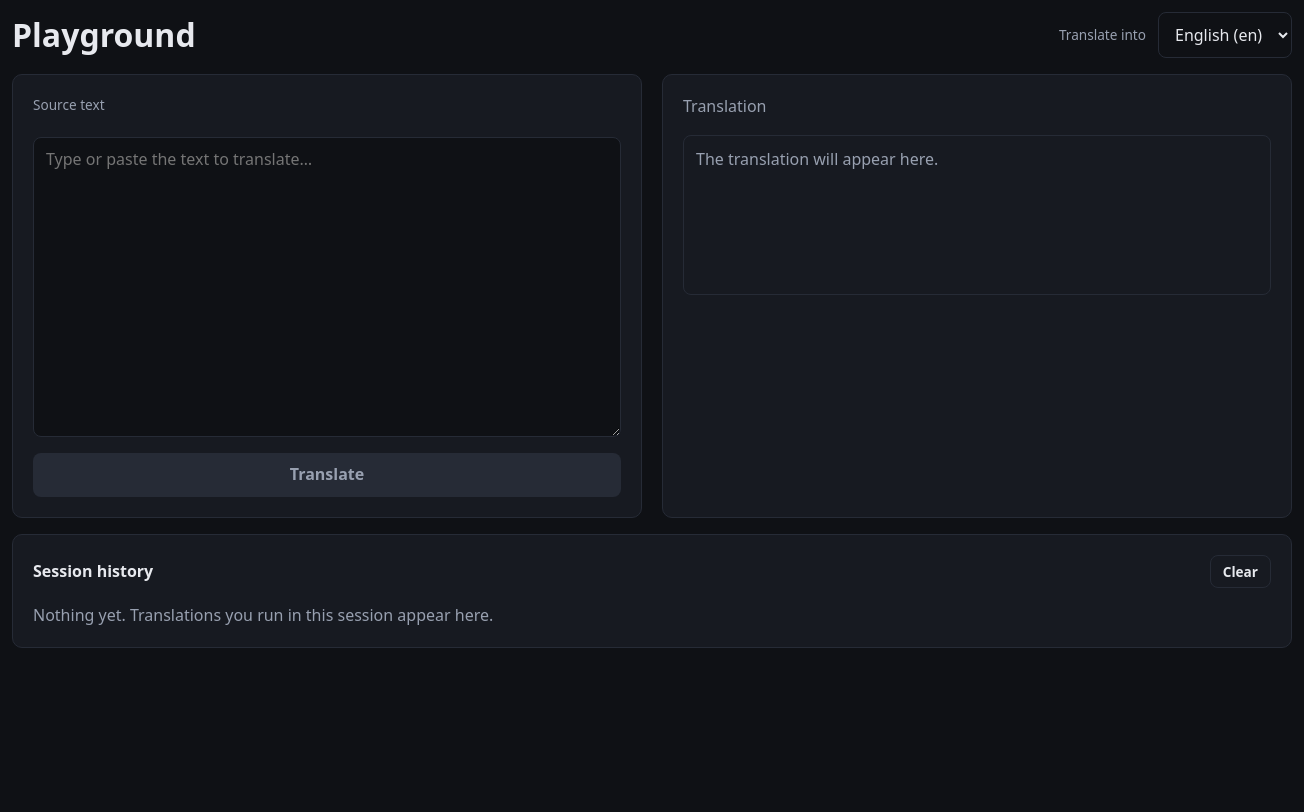
Test case: Playground › marks cache hits in the result and in session history
Type "bonjour" into the text box labelled "Source text" at (327, 287), box [33,137,621,437]
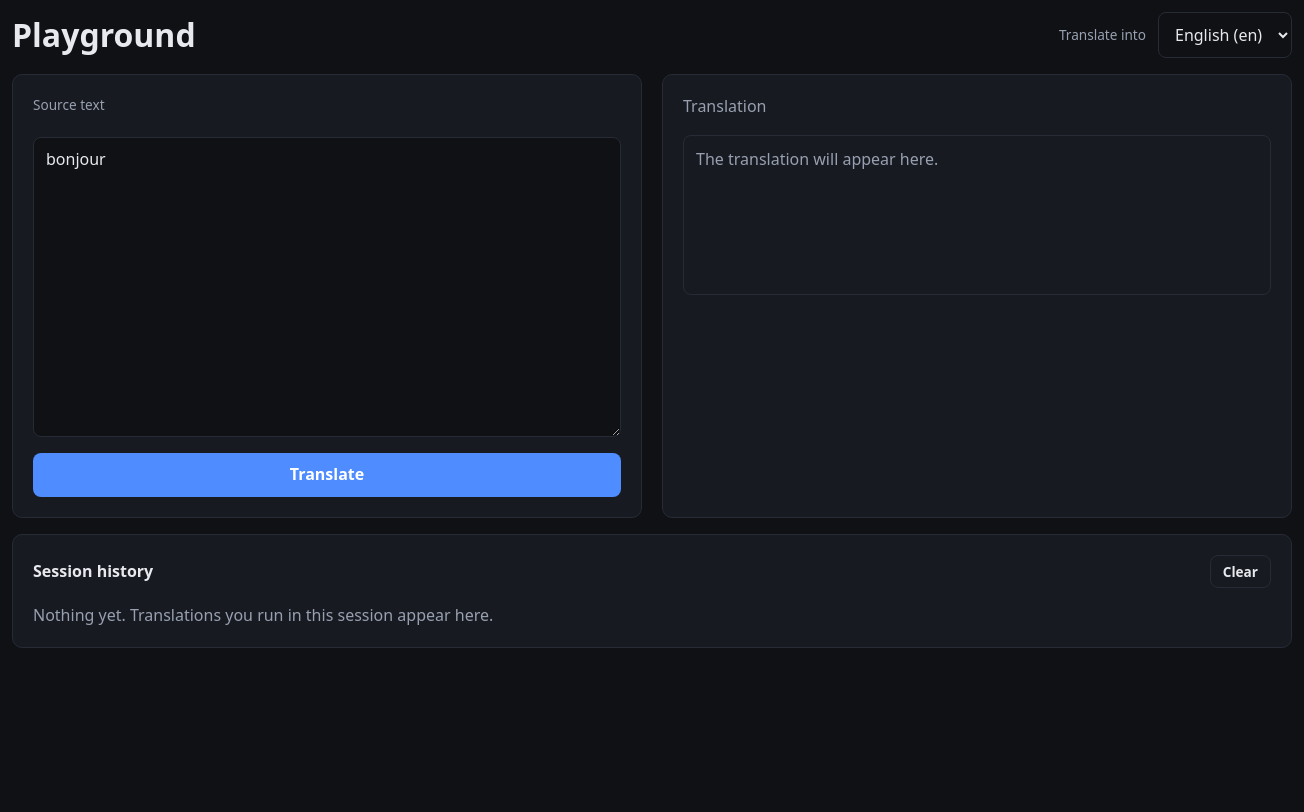
Click the button "Translate" at (327, 475), box [33,453,621,496]
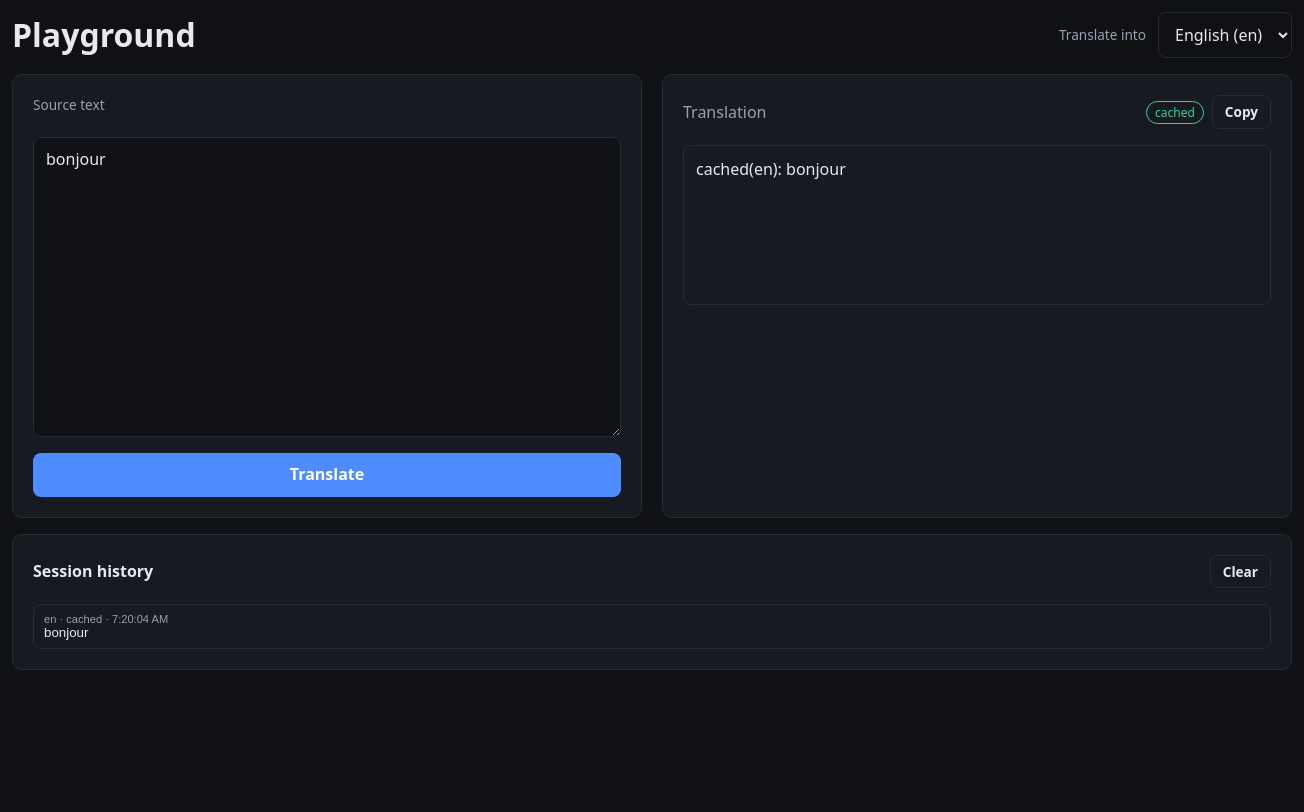
Now the text "cached" is shown, box [1146,100,1204,124]
Now the text "en · cached · 7:20:04 AM" is shown, box [44,613,168,625]
